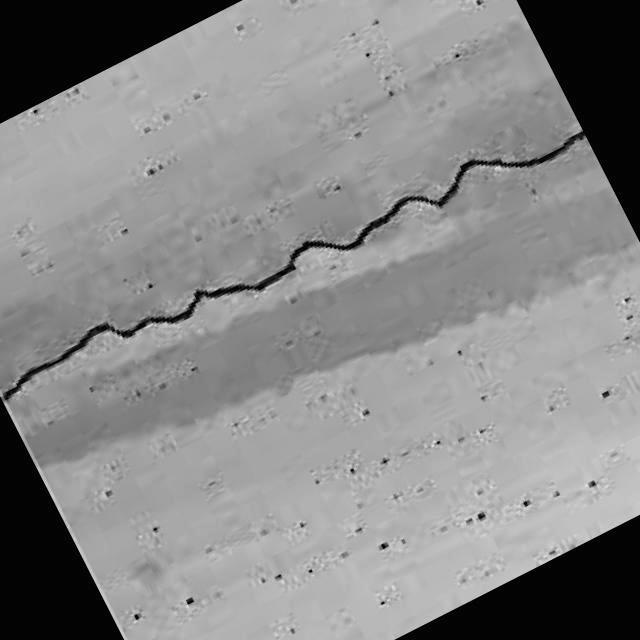defect: (0, 130, 585, 410)
